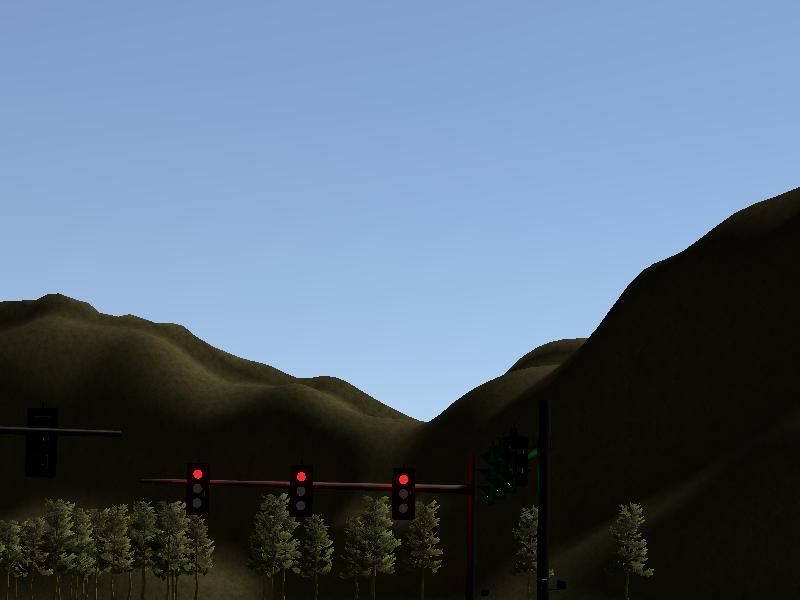Red: (289, 463, 312, 517), (393, 467, 414, 520), (187, 463, 208, 514)
